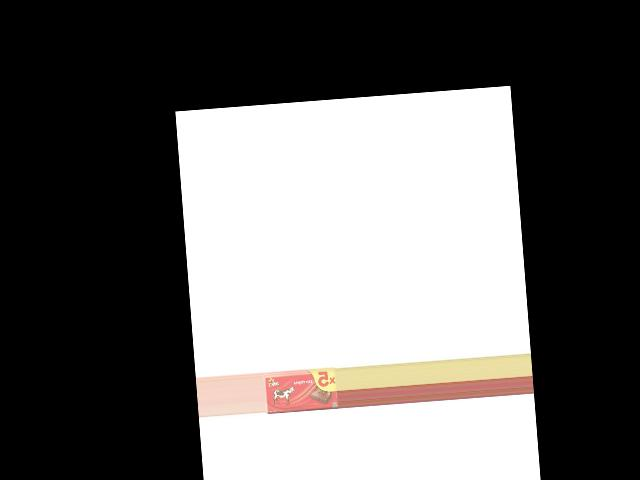chocolate: (261, 365, 338, 413)
